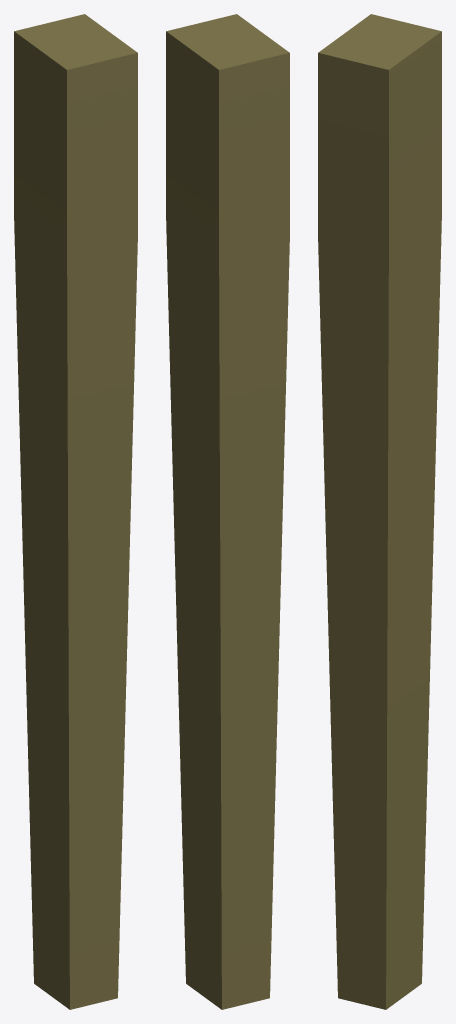
The model's file is Table_Feet.fbx.
3 views of the same model, side by side, from view 1: azimuth 30°, elevation 25°; view 2: azimuth 210°, elevation 25°; view 3: azimuth 330°, elevation 25° (orthographic).
Parts seen in each view (by area): view 1: Table_Feet; view 2: Table_Feet; view 3: Table_Feet.
Boxes of the visible parts, <box> form: Table_Feet: <box>14,14,137,1009</box>; Table_Feet: <box>166,14,289,1009</box>; Table_Feet: <box>318,14,441,1009</box>.
Size of the model in its own units: 49.36 by 632 by 63.98.
